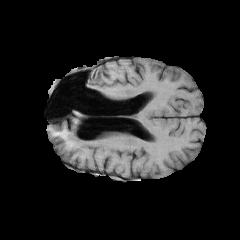glioma: (78, 70, 123, 113)
